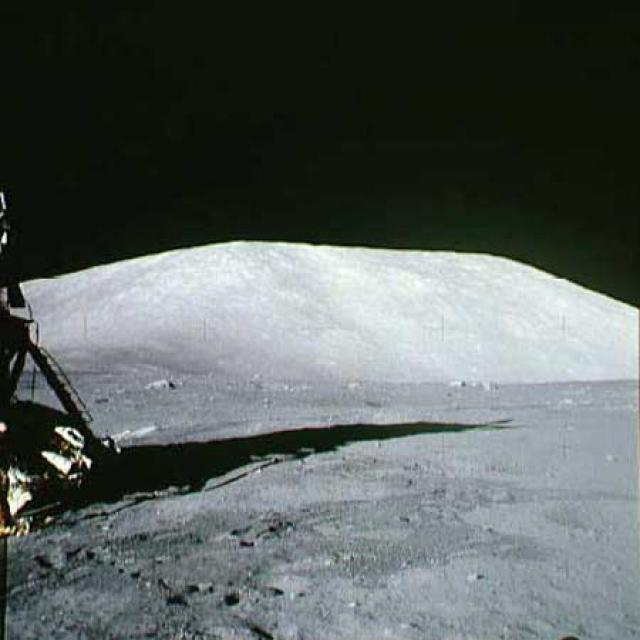artifact: (0, 190, 116, 537)
rock: (140, 377, 178, 394), (467, 377, 499, 392), (447, 377, 463, 391)
